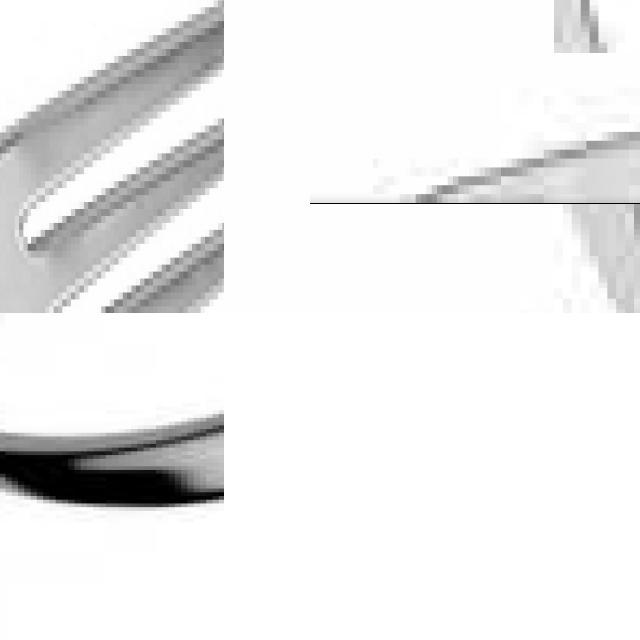forks: (0, 0, 224, 313), (432, 0, 640, 313)
